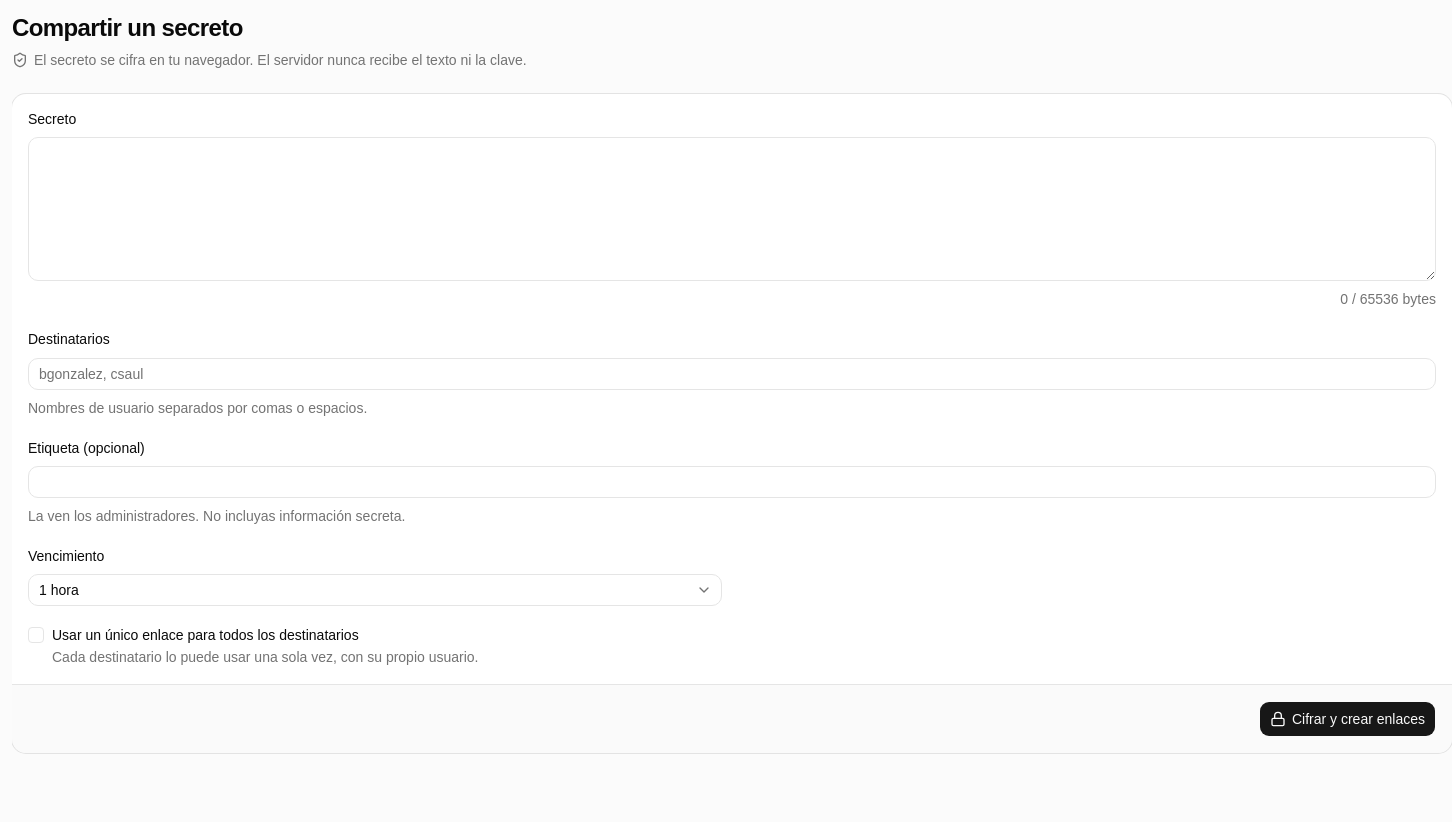
CreatePage › shows a shared link once, for all recipients
This screenshot has width=1452, height=822.
Type "hunter2" into the text box labelled "Secreto" at (732, 209), box [28,137,1436,281]
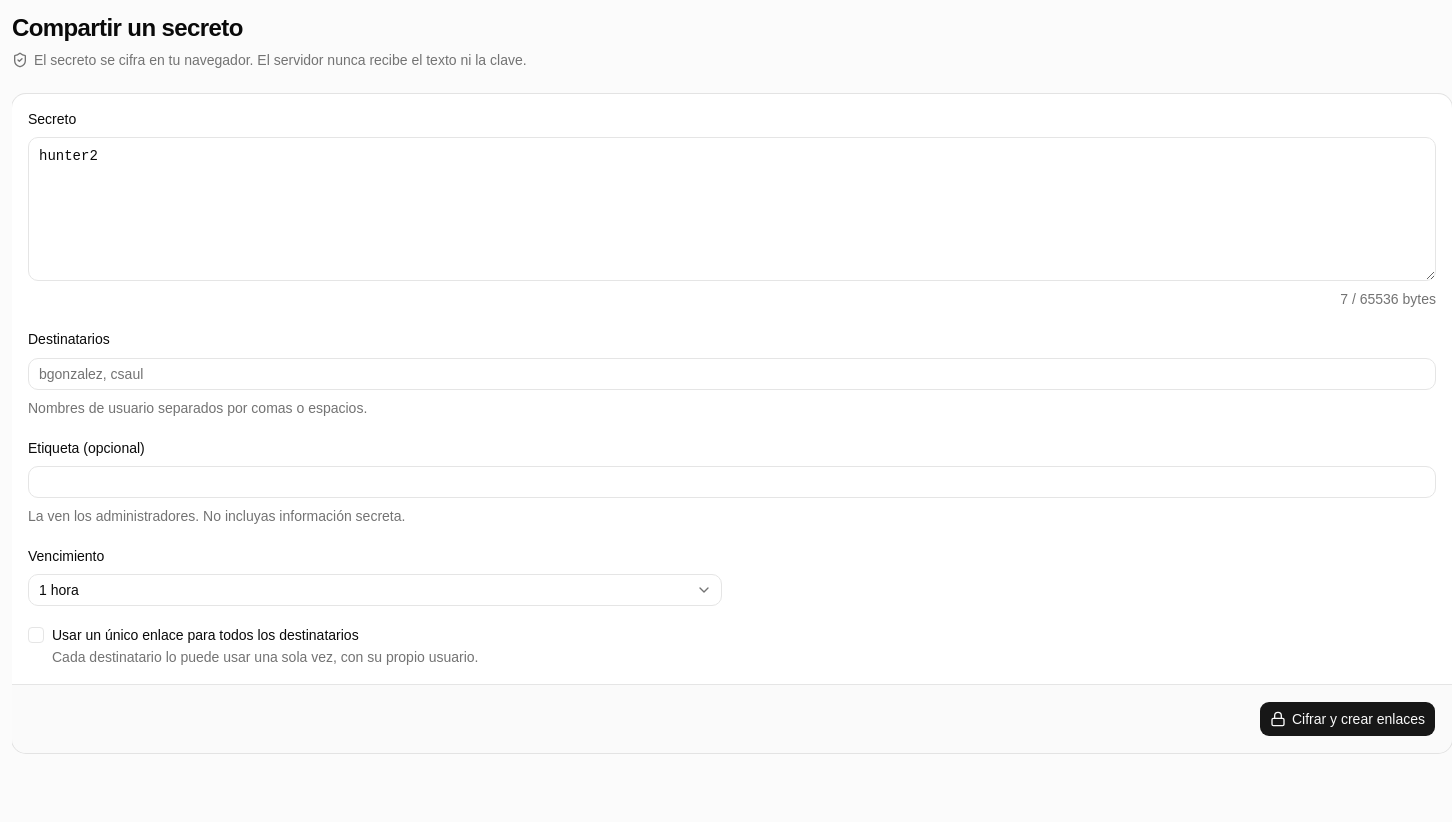
Type " BGonzalez, csaul " into the field labelled "Destinatarios" at (732, 374), box [28,358,1436,390]
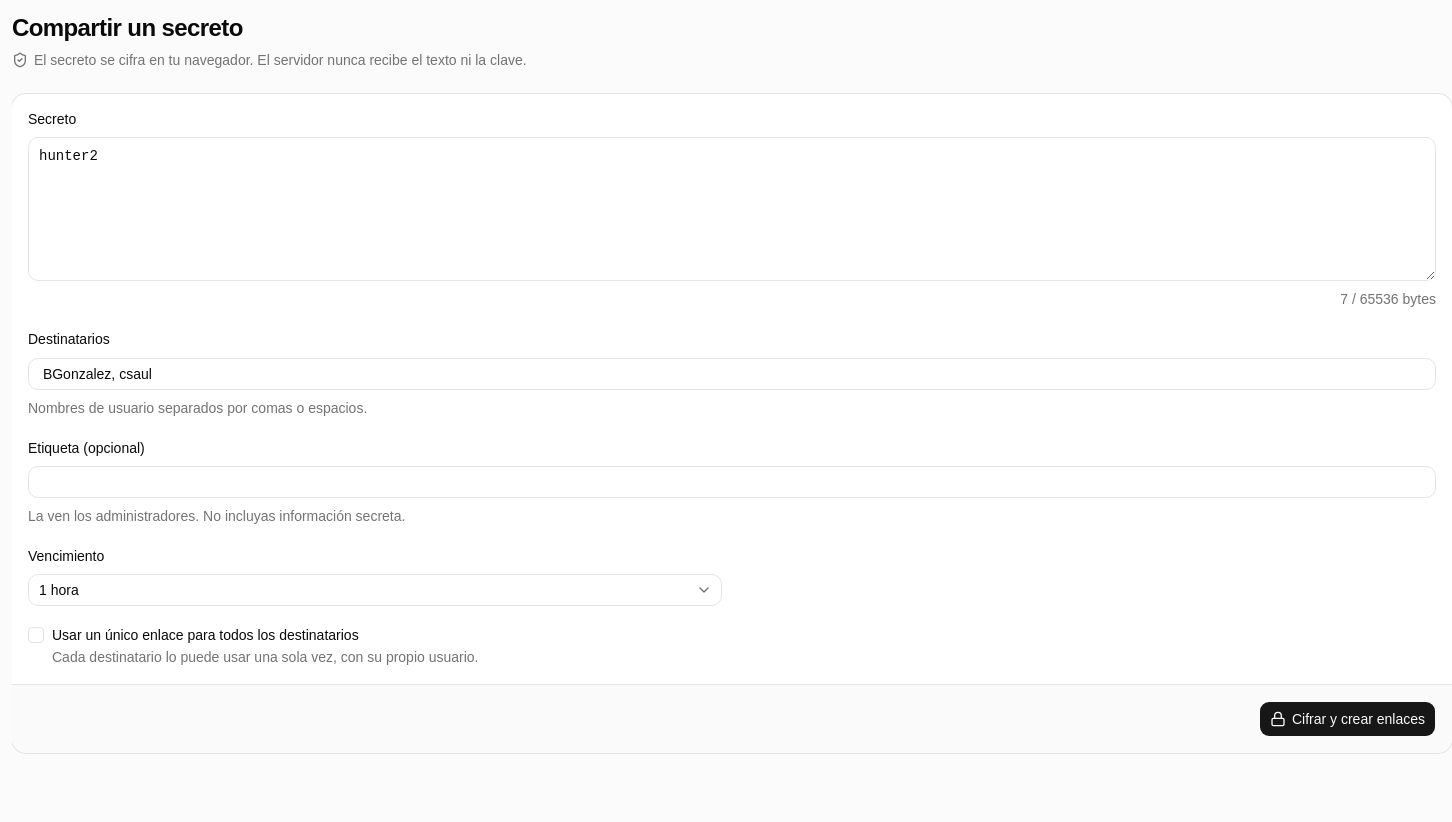
Click the checkbox named "Usar un único enlace para todos los destinatarios" at (36, 635), box [28,627,44,643]
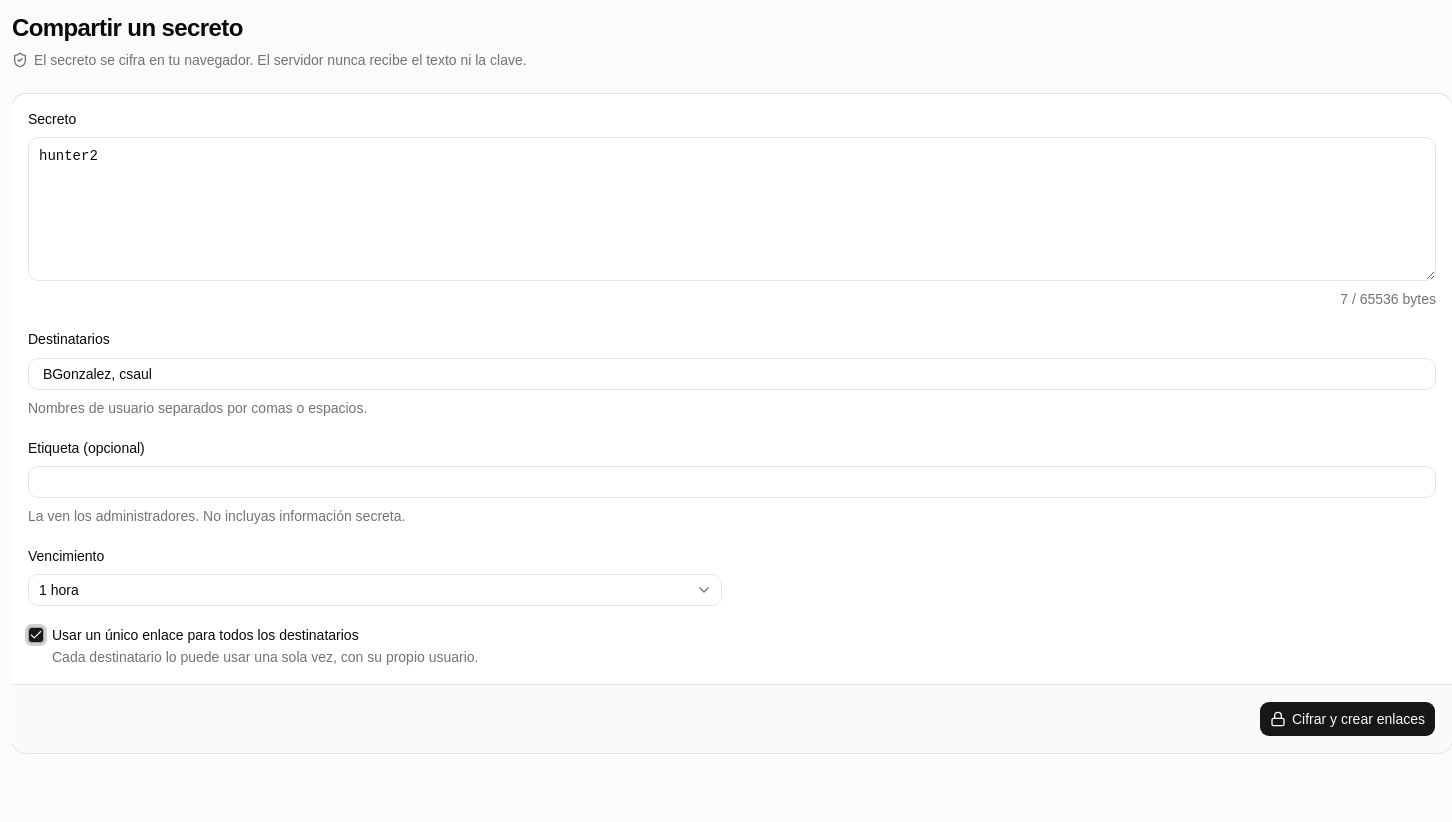
Click the button "Cifrar y crear enlaces" at (1348, 719), box [1259,701,1436,737]
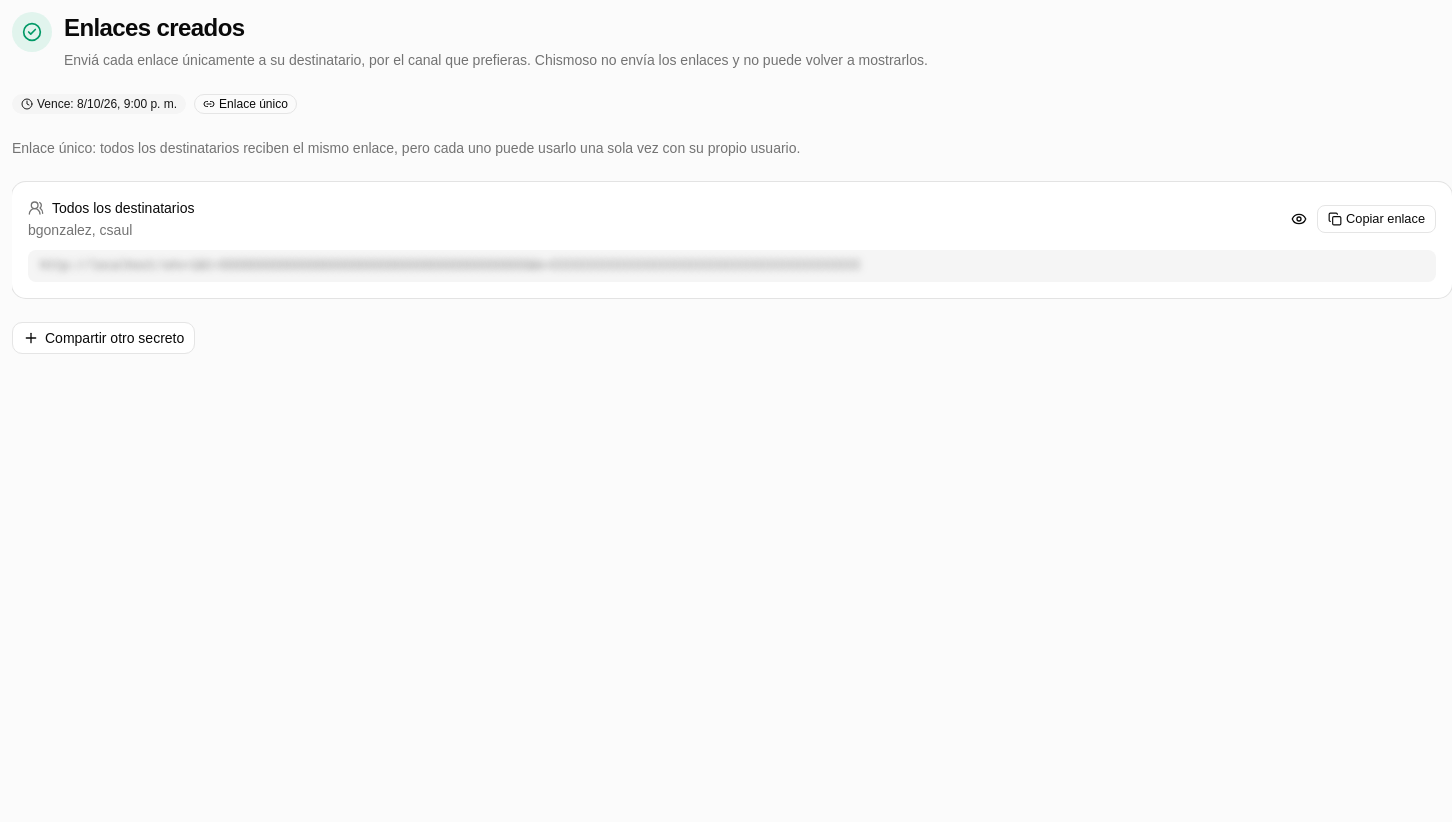
Expected: the number of list items is 1, [12,182,1451,298]
Expected: the list item shows "Todos los destinatarios", [52,200,194,216]
Expected: the list item shows "bgonzalez, csaul", [28,222,132,238]
